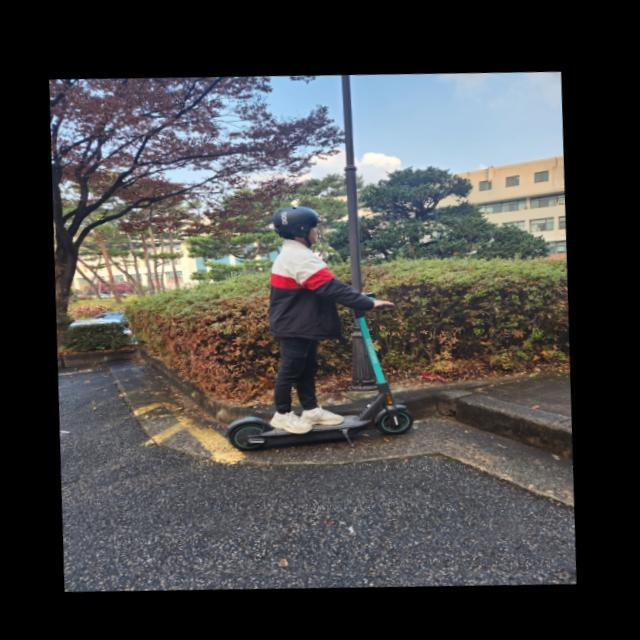Helmet: (266, 195, 329, 251)
